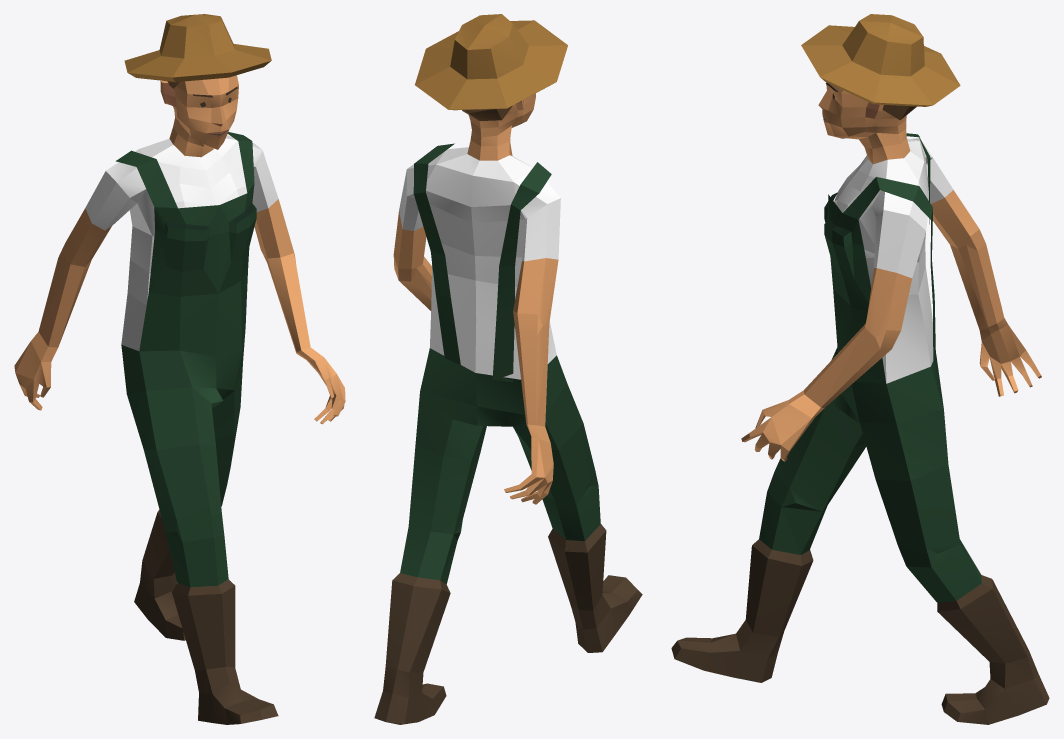
The picture shows the model from 3 angles, left to right: view 1: azimuth 30°, elevation 25°; view 2: azimuth 150°, elevation 25°; view 3: azimuth 270°, elevation 25°; orthographic projection. The views are drawn at different scales.
Parts seen in each view (by area): view 1: woman-farm.001; view 2: woman-farm.001; view 3: woman-farm.001.
Boxes of the visible parts, box(x1,y1,x2,y2) form: woman-farm.001: box(14, 14, 345, 724); woman-farm.001: box(374, 14, 642, 724); woman-farm.001: box(671, 14, 1049, 724).
Size of the model in its own units: 0.6098 by 1.78 by 0.8942.
Materials: 1 (1 with a texture image).
